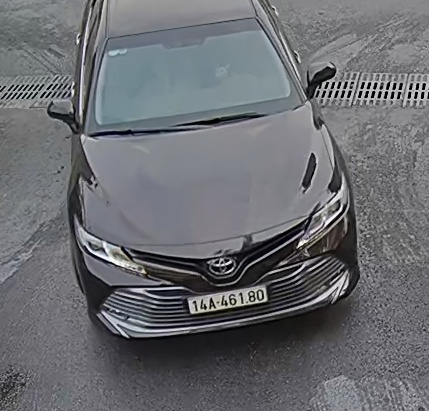vehicle plate: (181, 285, 275, 320)
